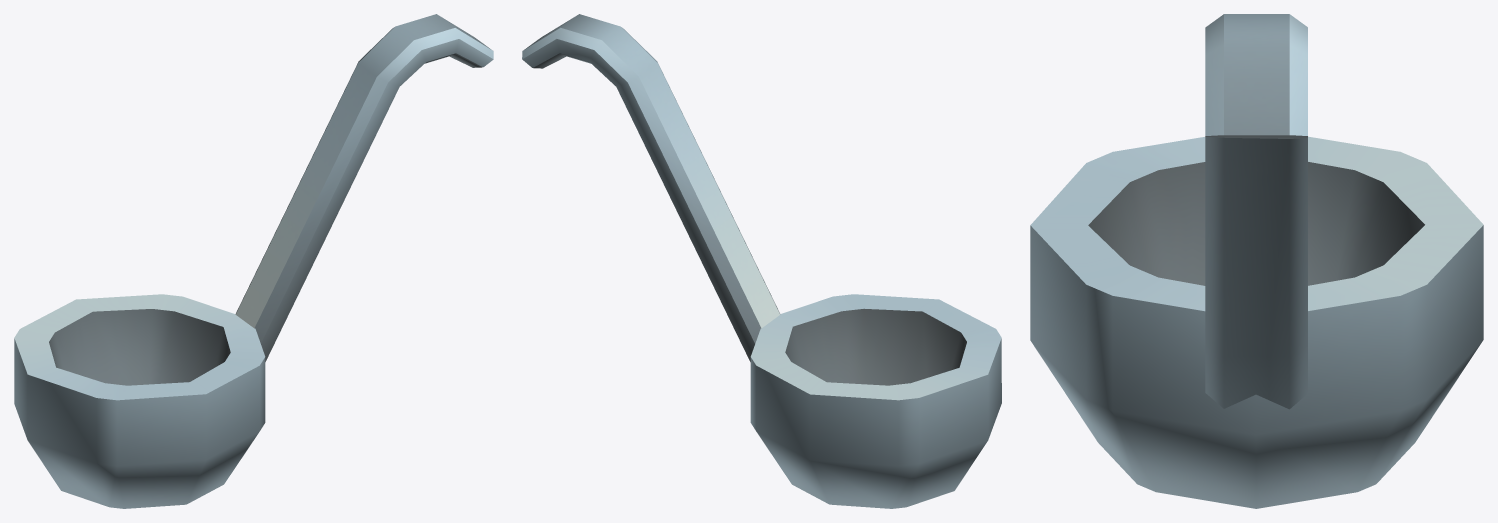
File: laddle.fbx
The picture shows the model from 3 angles, left to right: view 1: azimuth 30°, elevation 25°; view 2: azimuth 150°, elevation 25°; view 3: azimuth 270°, elevation 25°; orthographic projection. The views are drawn at different scales.
Parts seen in each view (by area): view 1: laddle; view 2: laddle; view 3: laddle.
Boxes of the visible parts, left/top/right/bottom form: laddle: left=14, top=14, right=493, bottom=508; laddle: left=522, top=14, right=1001, bottom=508; laddle: left=1030, top=14, right=1483, bottom=508.
Size of the model in its own units: 38.57 by 30.36 by 18.97.
